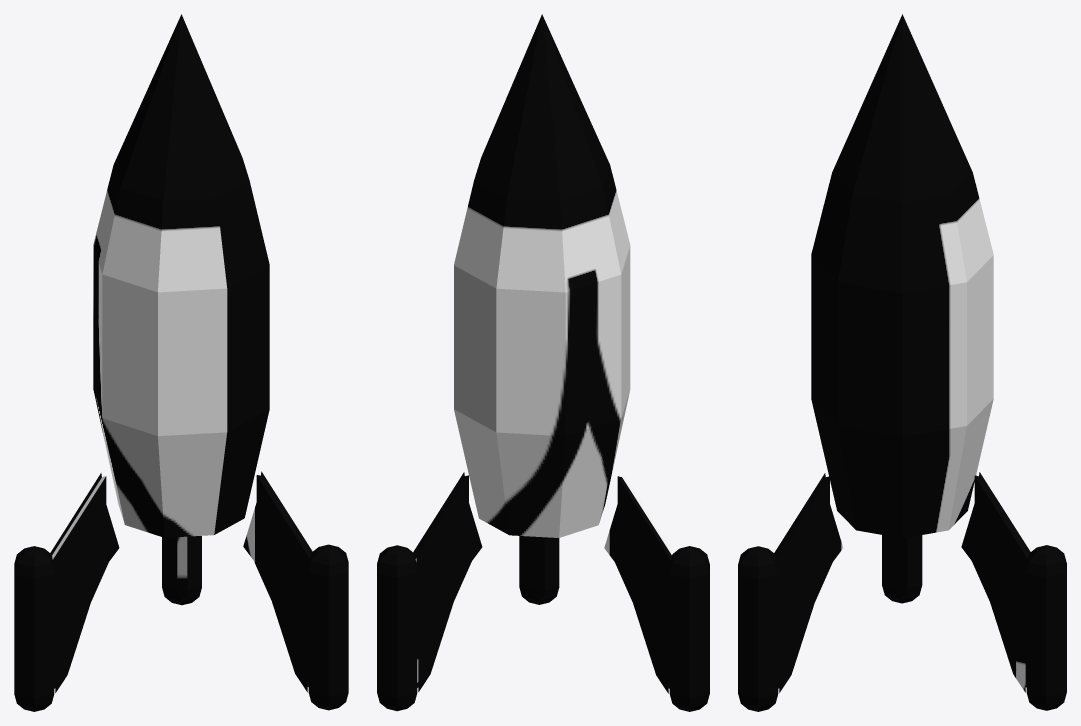
Rendered from rocket.obj.
3 views of the same model, side by side, from view 1: azimuth 30°, elevation 25°; view 2: azimuth 150°, elevation 25°; view 3: azimuth 270°, elevation 25° (orthographic).
Visible parts, largest first — view 1: Rocket, wing02, wing01, reactor02, reactor01, reactor03, wing03; view 2: Rocket, wing01, wing03, reactor01, reactor03, reactor02, wing02; view 3: Rocket, wing03, wing02, reactor02, reactor03, reactor01, wing01.
Boxes of the visible parts, x1,y1,x2,y2 form: Rocket: (93, 14, 269, 537); wing02: (243, 471, 312, 692); wing01: (50, 473, 119, 692); reactor02: (308, 544, 348, 710); reactor01: (14, 546, 54, 711); reactor03: (162, 536, 201, 605); wing03: (177, 536, 187, 598); Rocket: (454, 14, 630, 537); wing01: (604, 473, 673, 693); wing03: (413, 472, 482, 692); reactor01: (669, 546, 709, 711); reactor03: (377, 545, 417, 711); reactor02: (519, 536, 559, 604); wing02: (534, 536, 544, 598); Rocket: (811, 14, 993, 538); wing03: (961, 472, 1030, 692); wing02: (774, 473, 843, 692); reactor02: (738, 546, 778, 711); reactor03: (1026, 545, 1066, 710); reactor01: (882, 535, 922, 603); wing01: (897, 537, 907, 596).
Size of the model in its own units: 165 by 396 by 179.
